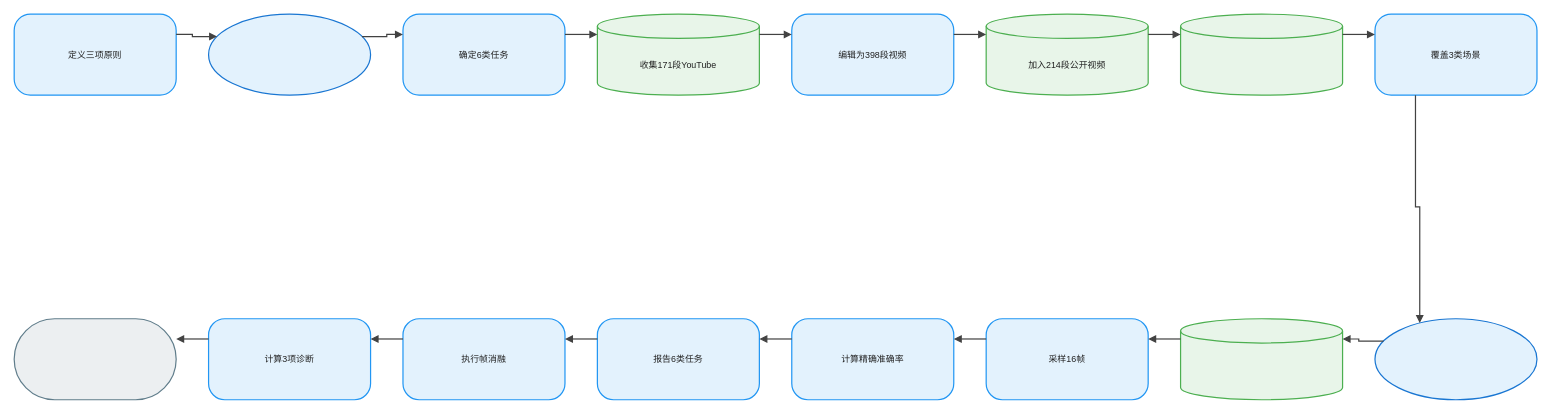
The diagram is 1552 pixels wide and 415 high, and some of its shapes have lost their labels. Here are the shapes that lost their labels. From the top down, the box of each, then its label:
(208, 13, 371, 95): 四人试标
(1180, 13, 1343, 95): 自建805段视频
(13, 318, 176, 400): 比较人类基线
(1180, 318, 1343, 400): 冻结1484题1417视频
(1374, 318, 1537, 400): 标注时间多选题
